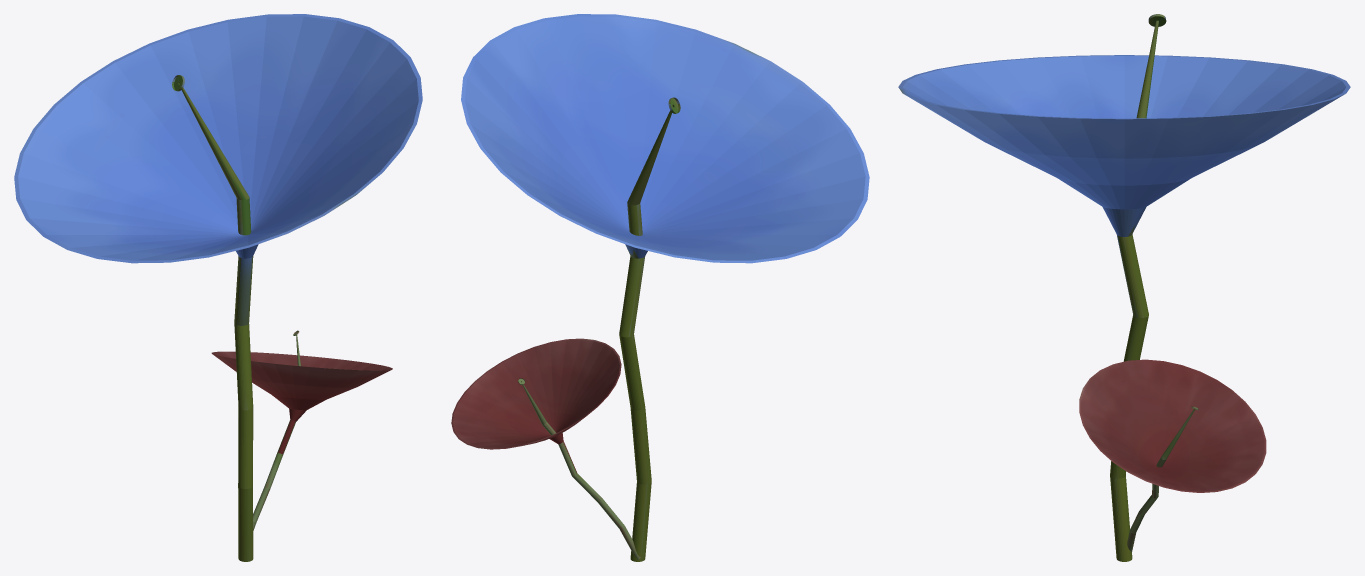
Rendered from flor_normals.fbx.
3 views of the same model, side by side, from view 1: azimuth 30°, elevation 25°; view 2: azimuth 150°, elevation 25°; view 3: azimuth 270°, elevation 25° (orthographic). The views are drawn at different scales.
Visible parts, largest first — view 1: Cylinder, Cylinder.001; view 2: Cylinder, Cylinder.001; view 3: Cylinder, Cylinder.001.
Part boxes in pixels (left/top/right/bottom): Cylinder: left=14, top=14, right=422, bottom=561; Cylinder.001: left=211, top=330, right=392, bottom=530; Cylinder: left=461, top=14, right=869, bottom=561; Cylinder.001: left=451, top=338, right=640, bottom=559; Cylinder: left=898, top=14, right=1350, bottom=561; Cylinder.001: left=1079, top=359, right=1266, bottom=551.
Size of the model in its own units: 212 by 274 by 217.
